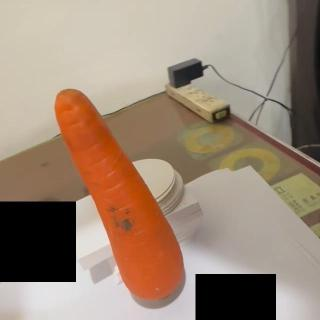carrot: (53, 86, 185, 300)
